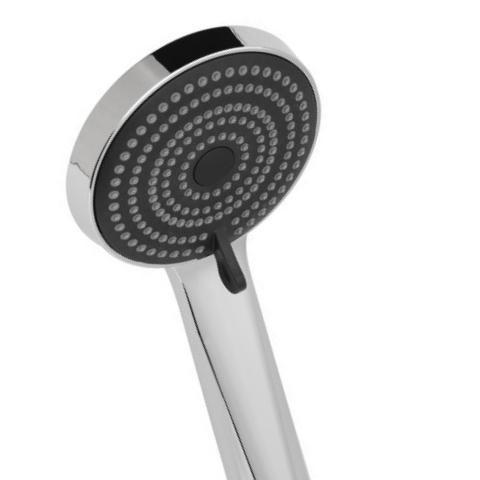Ducha: (63, 18, 366, 479)
